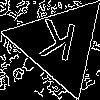K: (34, 18, 79, 70)
